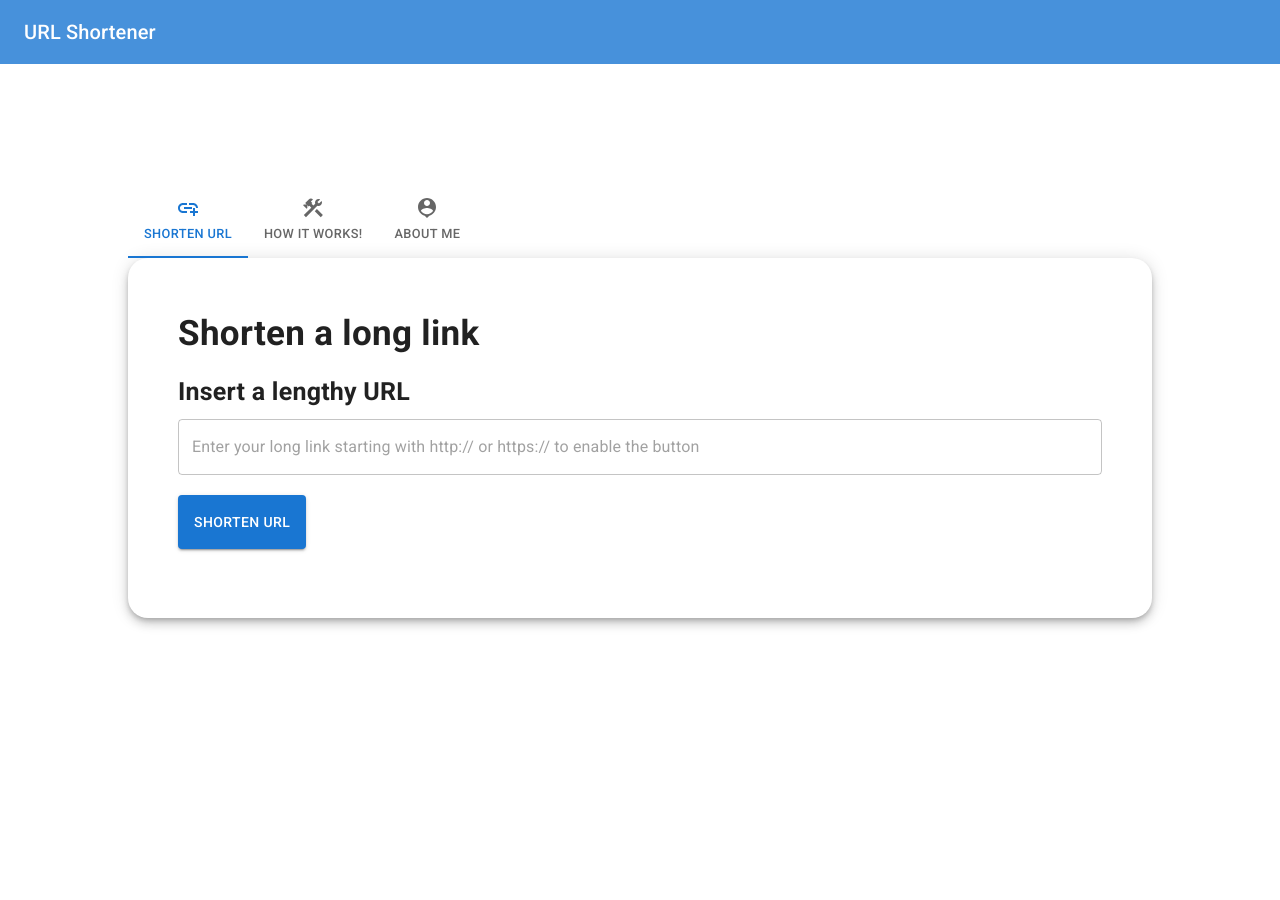
Home Page › URL Shortening section › should show the shortened url when the form is submitted
Type "https://www.example.com" into the field with placeholder "Enter your long link starting with http:// or https:// to enable the button" at (640,447), box [178,419,1102,475]
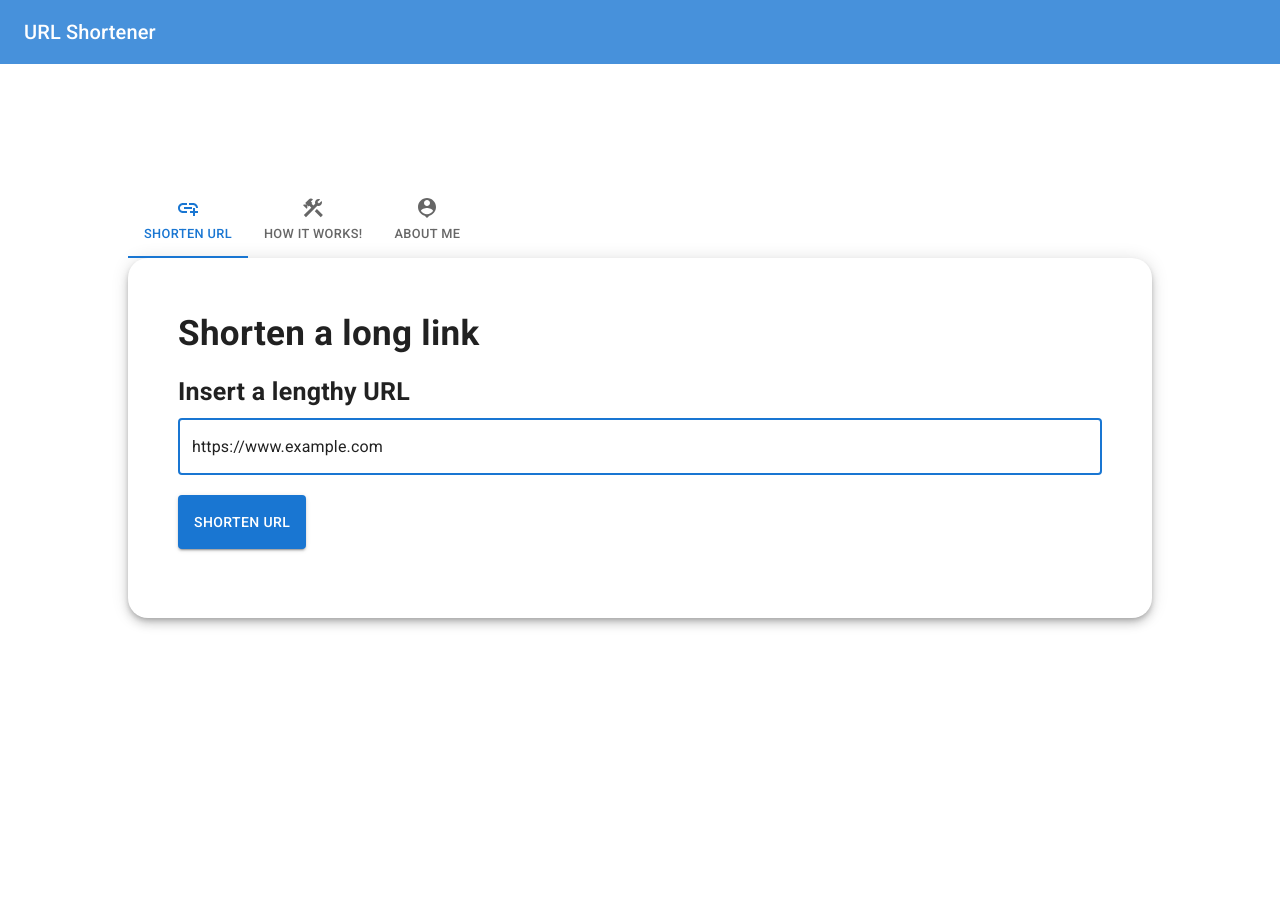
Click the button "Shorten URL" at (242,522), box [178,495,306,549]
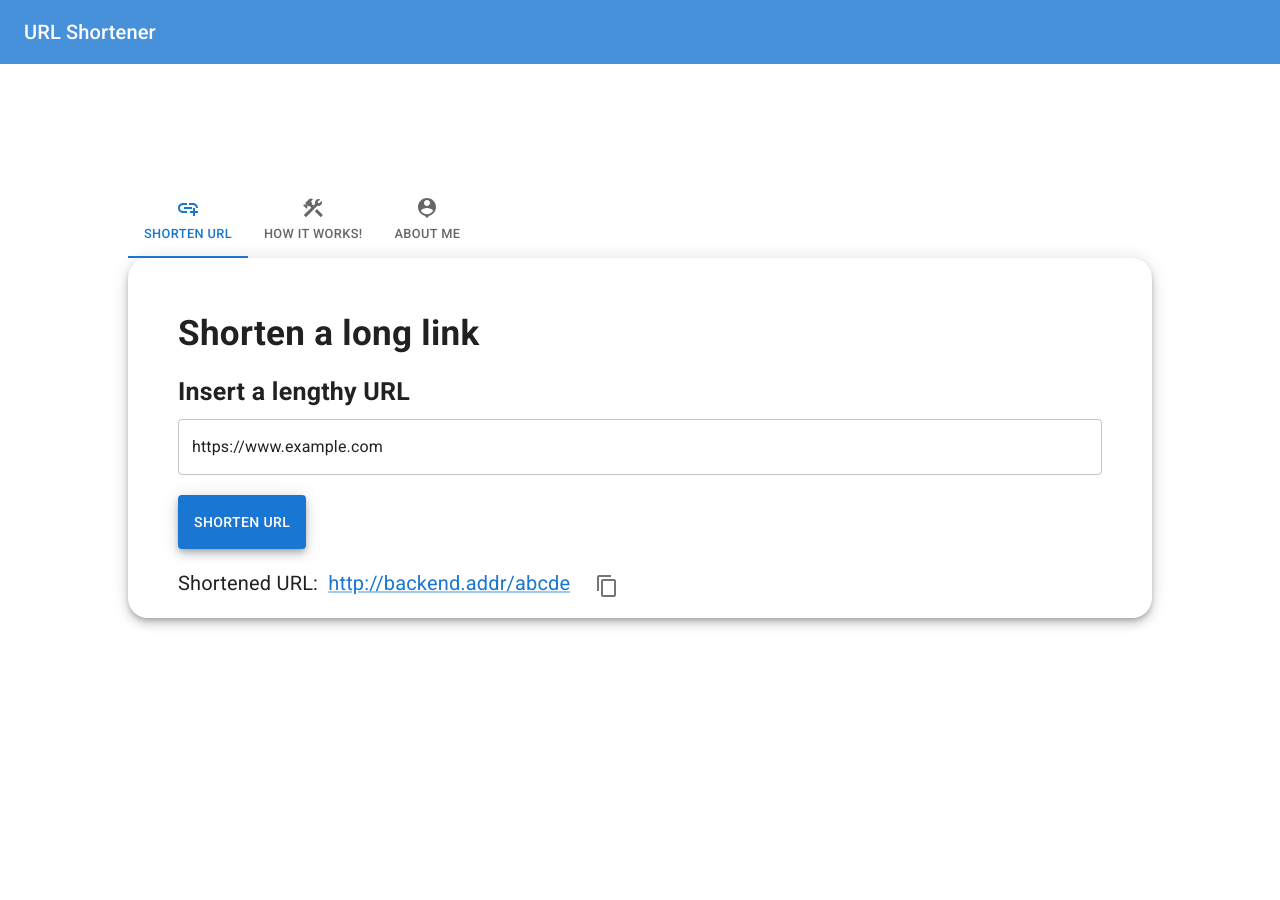
Expected: the link "http://backend.addr/abcde" is shown, [328,571,570,595]
